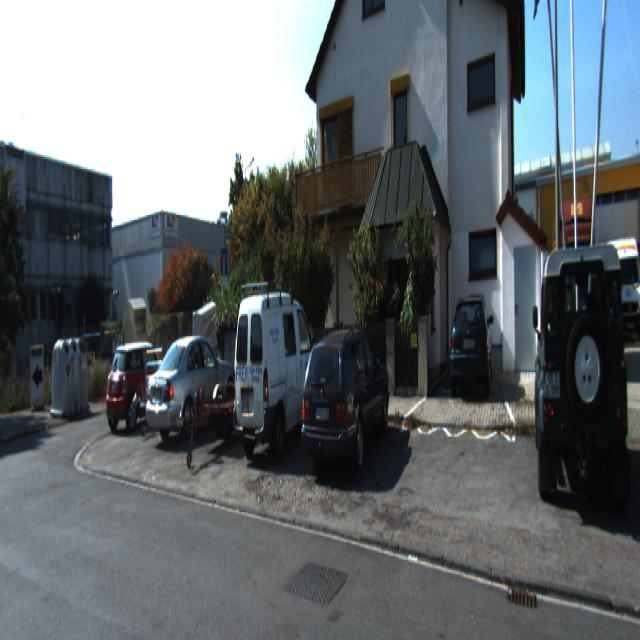Car: (536, 233, 639, 535), (230, 277, 328, 465), (301, 319, 393, 483), (153, 359, 287, 467), (140, 326, 238, 449), (102, 336, 175, 432), (555, 190, 596, 348), (121, 340, 185, 437), (450, 285, 494, 398), (602, 226, 640, 342), (187, 300, 216, 376)
